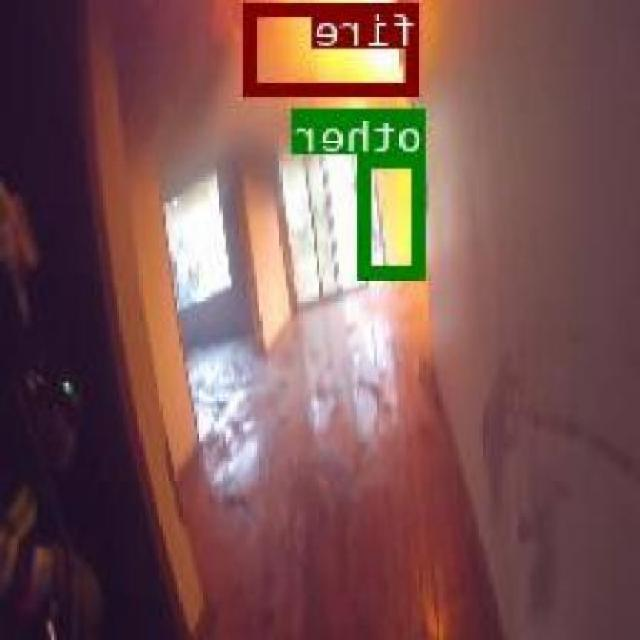Fire: (248, 0, 422, 92)
Smoke: (130, 9, 222, 175)
